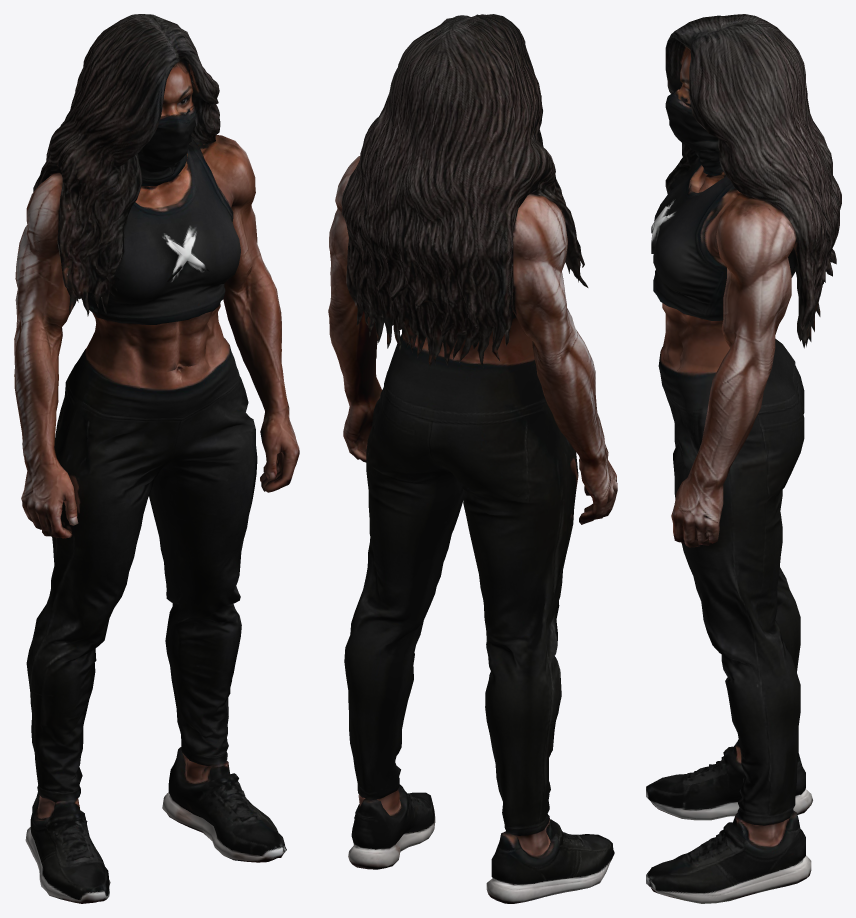
Rendered from TASHA.glb.
3 views of the same model, side by side, from view 1: azimuth 30°, elevation 25°; view 2: azimuth 150°, elevation 25°; view 3: azimuth 270°, elevation 25° (orthographic).
Parts seen in each view (by area): view 1: tripo_node_89761c1b-db90-4509-983c-672407cf68c2; view 2: tripo_node_89761c1b-db90-4509-983c-672407cf68c2; view 3: tripo_node_89761c1b-db90-4509-983c-672407cf68c2.
Part boxes in pixels (x1,y1,x2,y2): tripo_node_89761c1b-db90-4509-983c-672407cf68c2: (14, 14, 299, 903); tripo_node_89761c1b-db90-4509-983c-672407cf68c2: (328, 14, 617, 903); tripo_node_89761c1b-db90-4509-983c-672407cf68c2: (646, 14, 841, 903).
Size of the model in its own units: 0.3234 by 0.9777 by 0.2086.
1 material, 1 textured.
